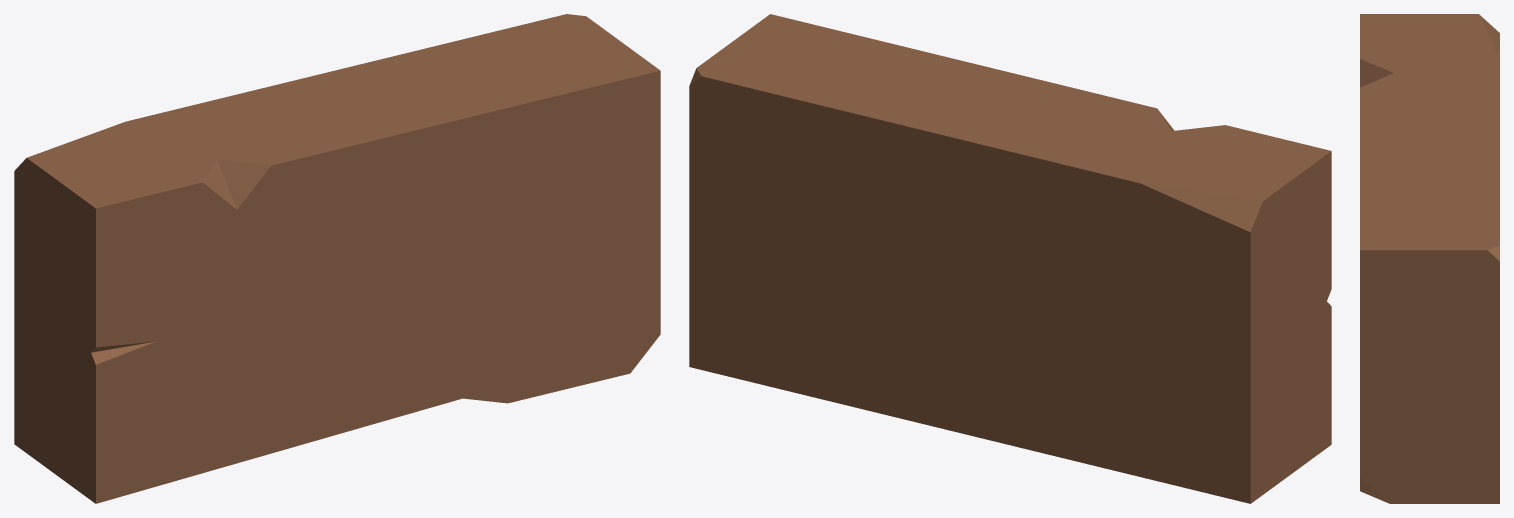
Rendered from Monument_004.FBX.
3 renders of one model, left to right at view 1: azimuth 30°, elevation 25°; view 2: azimuth 150°, elevation 25°; view 3: azimuth 270°, elevation 25°, orthographic. The views are drawn at different scales.
Visible parts, largest first — view 1: Monument_004; view 2: Monument_004; view 3: Monument_004.
Part boxes in pixels (x1,y1,x2,y2): Monument_004: (14,14,660,503); Monument_004: (689,14,1331,503); Monument_004: (1360,14,1499,503).
Size of the model in its own units: 78.74 by 39.37 by 19.69.
